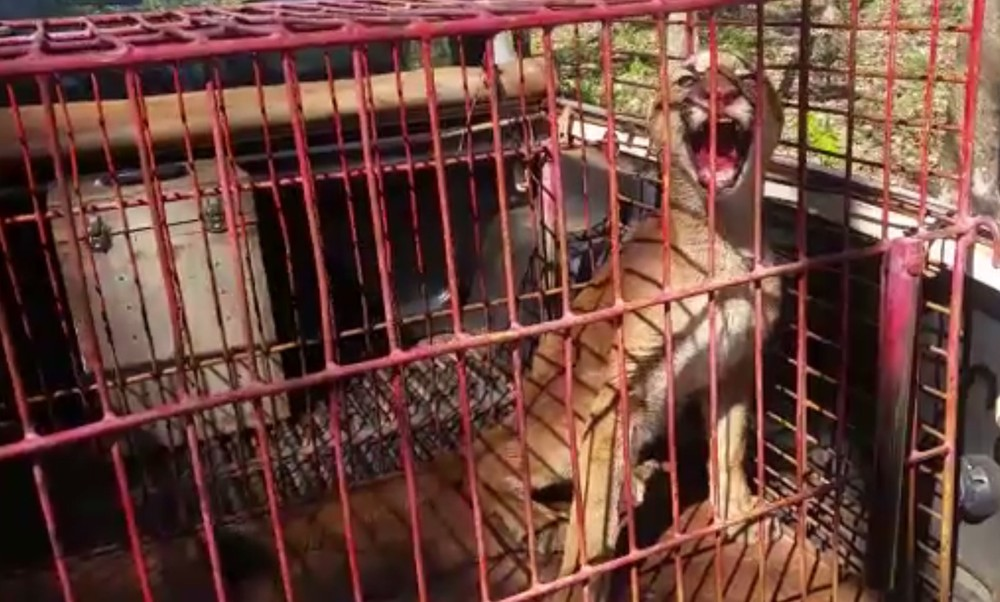OncaParda: (497, 45, 794, 586)
